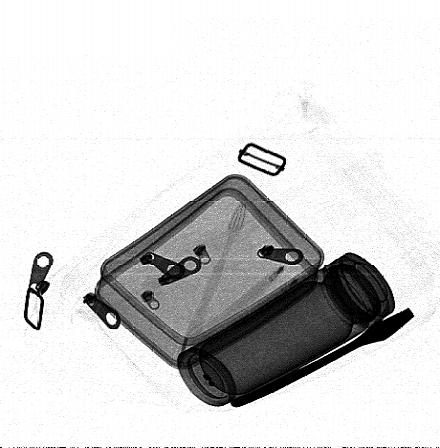Wrench: (229, 305, 416, 409)
